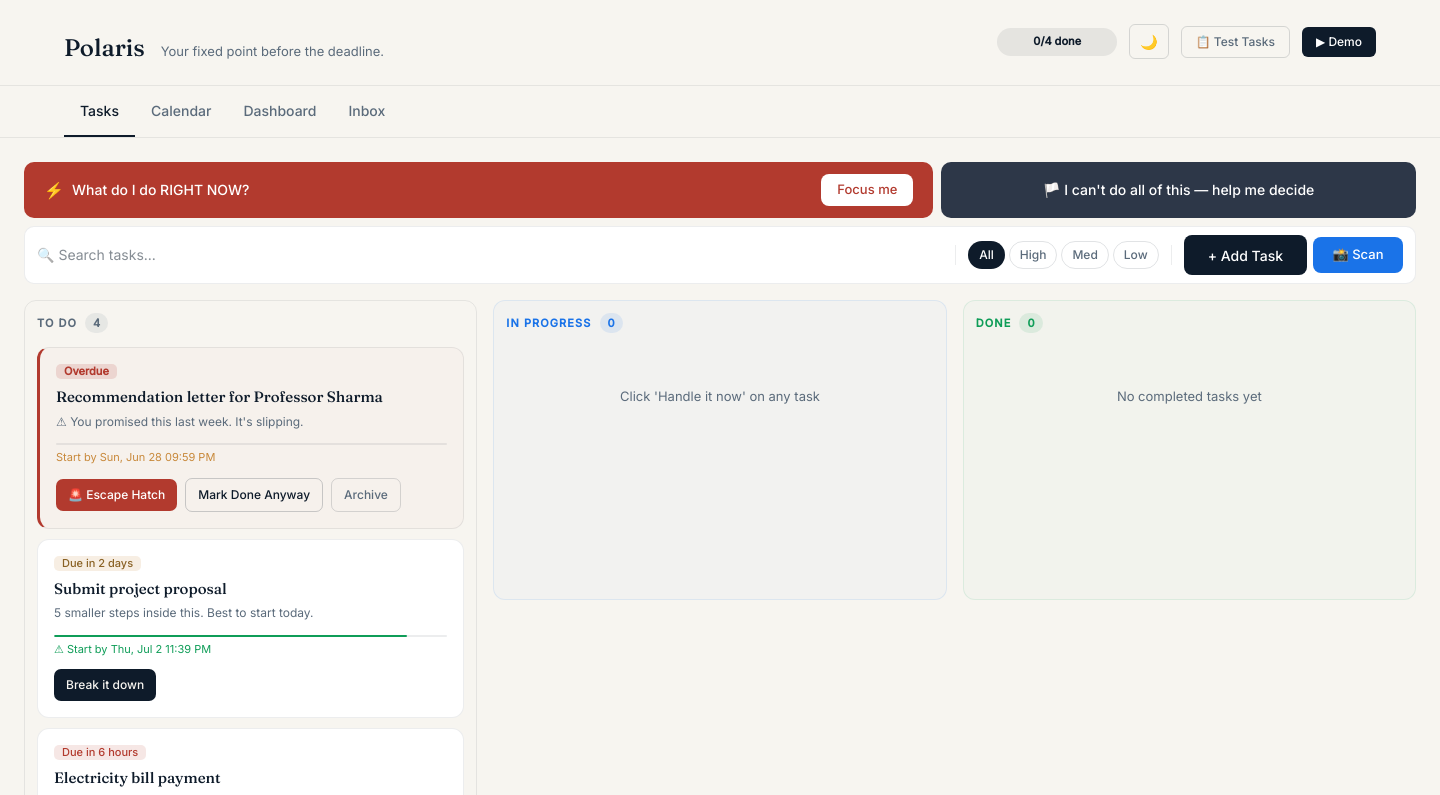
Test: Module 8: Task Decomposition (Break it down) › Subtask checklist appears after decomposition (mock success)
The image size is (1440, 795).
What coordinates should you click on to do the following:
click the button "Break it down"
I would click on:
 (105, 685)
Its box is [54,669,156,701].
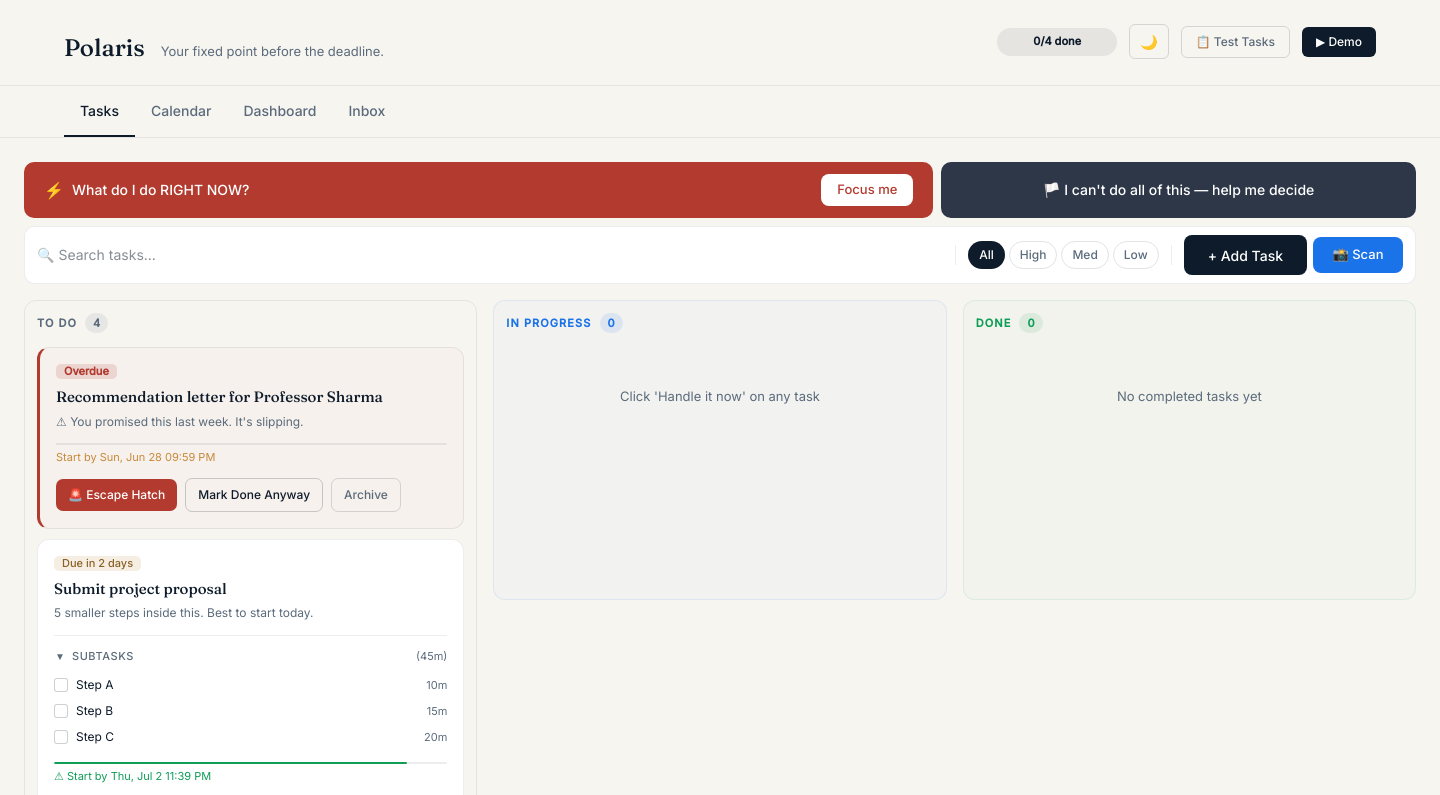
Expected: the text "Step A" is shown, [76,676,114,694]
